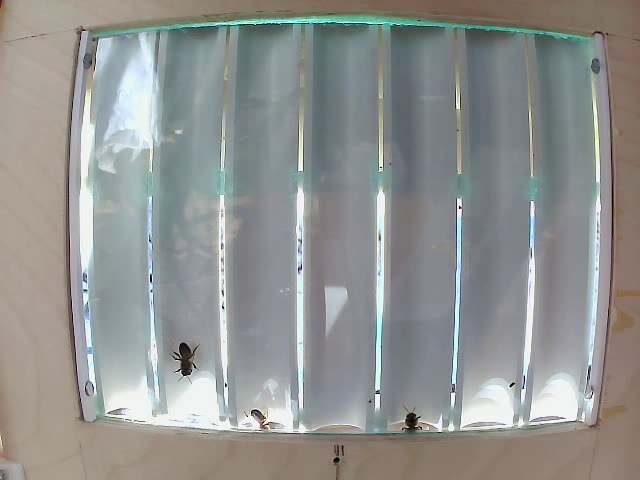bee: (166, 330, 211, 377)
